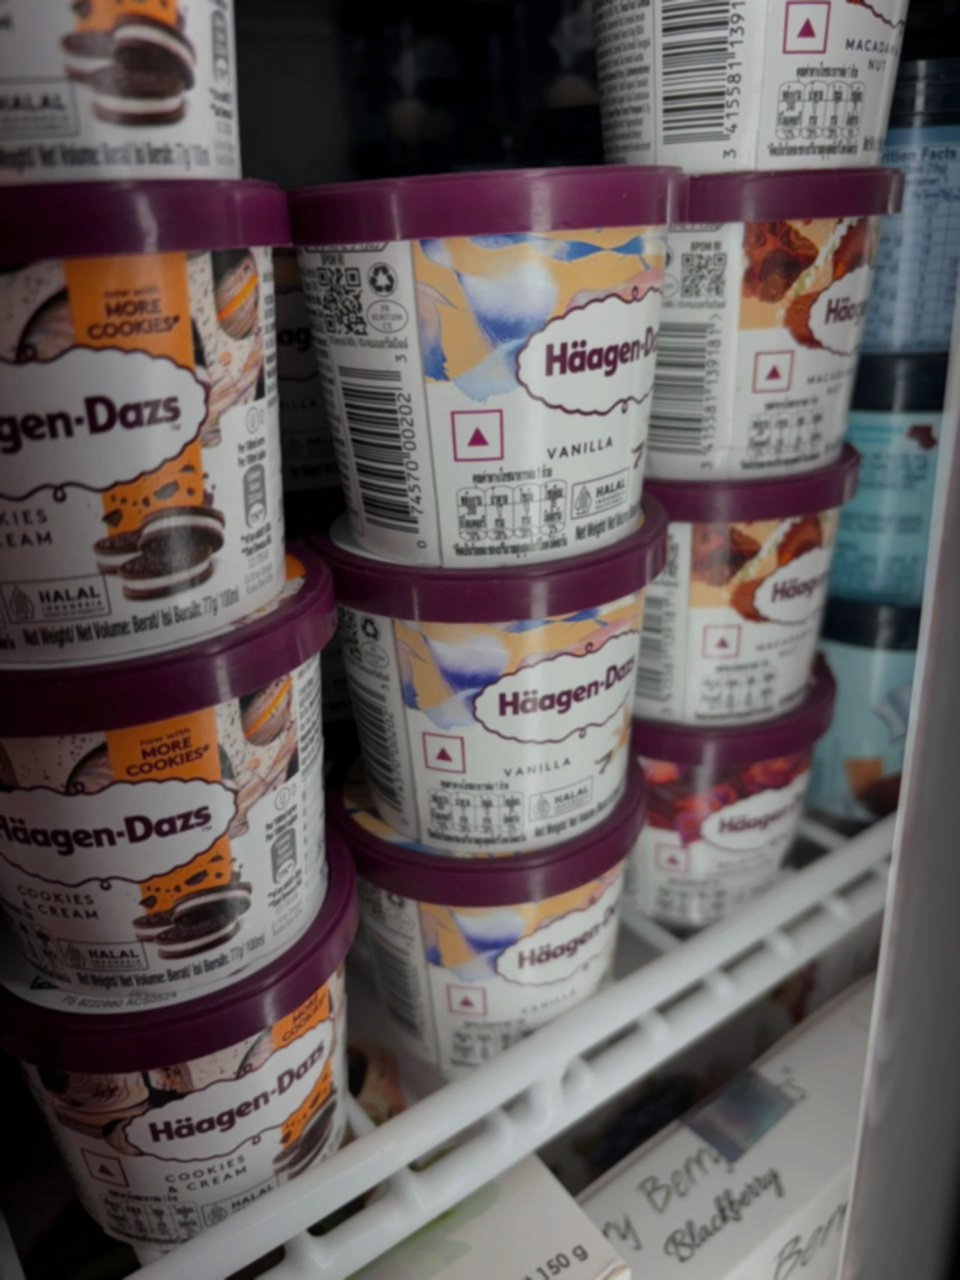Haagen-Dazs IceCream Tub: (0, 569, 336, 1013), (3, 842, 350, 1249), (0, 195, 292, 672), (283, 179, 656, 548), (324, 528, 642, 831), (338, 799, 632, 1076), (645, 162, 892, 473), (616, 466, 856, 712), (581, 0, 917, 175), (615, 685, 830, 953), (0, 0, 256, 189)
